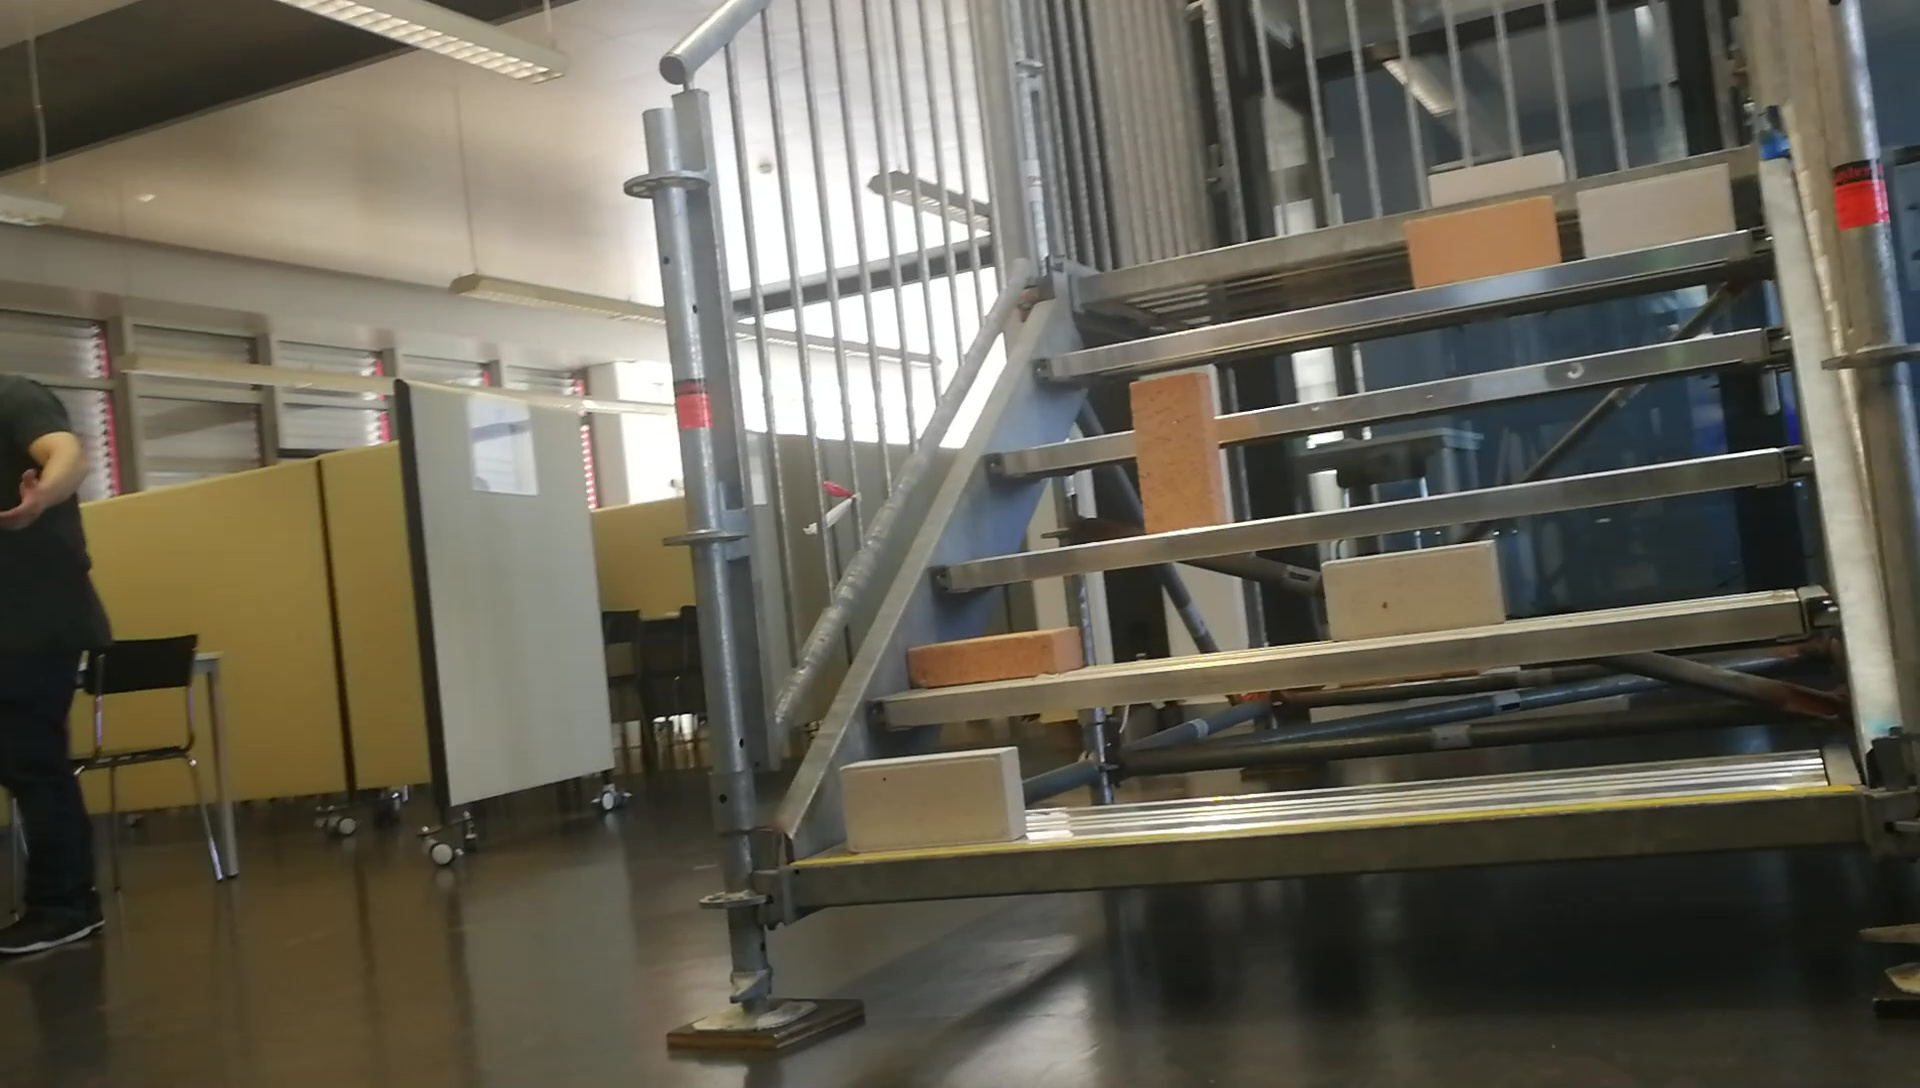brick: (840, 750, 1029, 848), (1323, 541, 1501, 636), (1131, 369, 1225, 530), (1404, 195, 1555, 291), (1577, 162, 1727, 256), (909, 626, 1077, 686), (1428, 150, 1563, 203)
edge: (934, 444, 1807, 597), (862, 593, 1830, 727), (994, 320, 1784, 477), (790, 793, 1867, 906), (1027, 226, 1766, 380)
stairs: (620, 3, 1920, 1058)
steps: (778, 142, 1879, 932)
